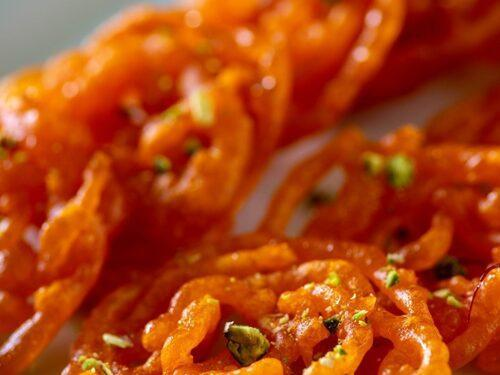jalebi: (1, 1, 500, 375)
